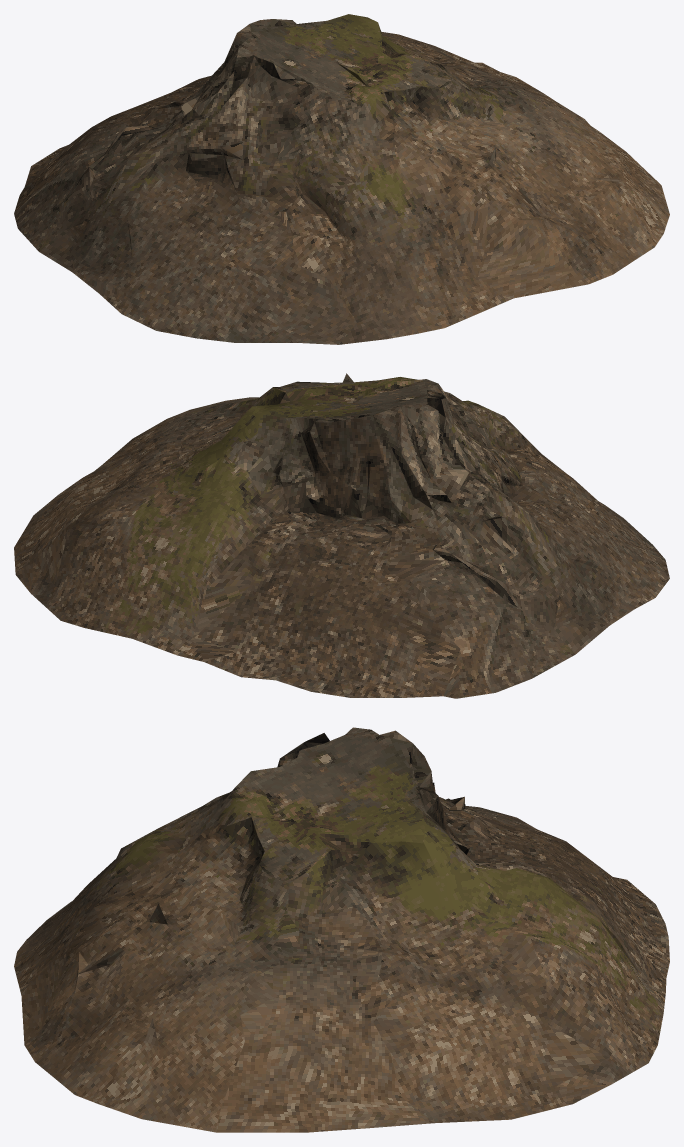
File: tree_stump_02.glb
The picture shows the model from 3 angles, top to bottom: view 1: azimuth 30°, elevation 25°; view 2: azimuth 150°, elevation 25°; view 3: azimuth 270°, elevation 25°; orthographic projection. The views are drawn at different scales.
Visible parts, largest first — view 1: tree_stump_02; view 2: tree_stump_02; view 3: tree_stump_02.
Part boxes in pixels (bbox=[...]): tree_stump_02: bbox=[14, 14, 669, 344]; tree_stump_02: bbox=[14, 373, 669, 698]; tree_stump_02: bbox=[14, 727, 669, 1132].
Bounding box in the file's own units: 1.52 × 0.5124 × 1.4.
1 material, 1 textured.
